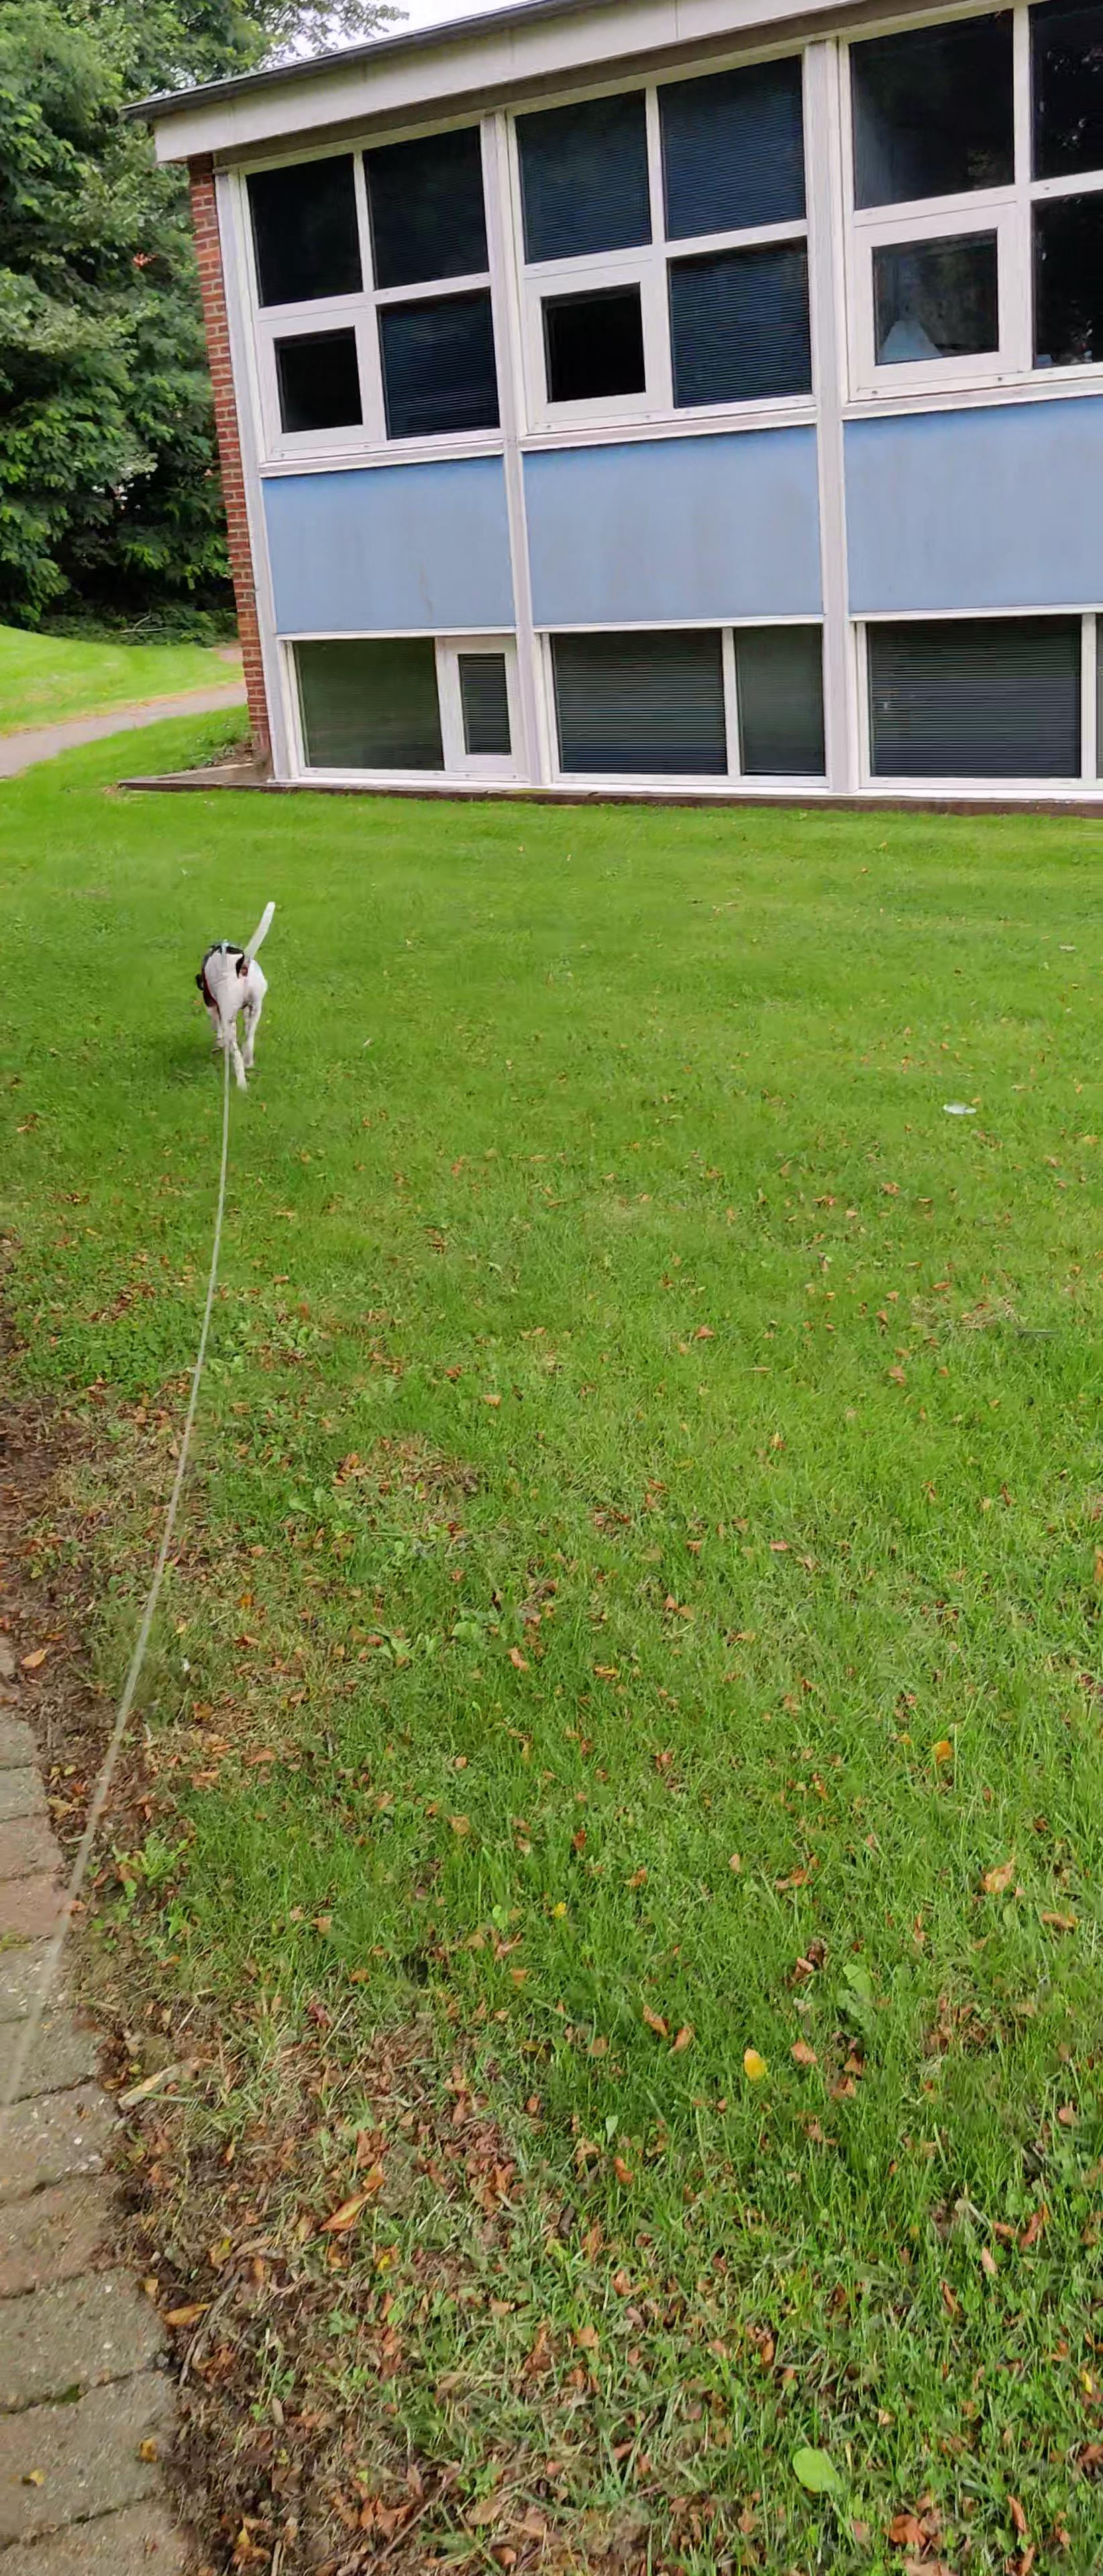Dog: (186, 897, 278, 1096)
